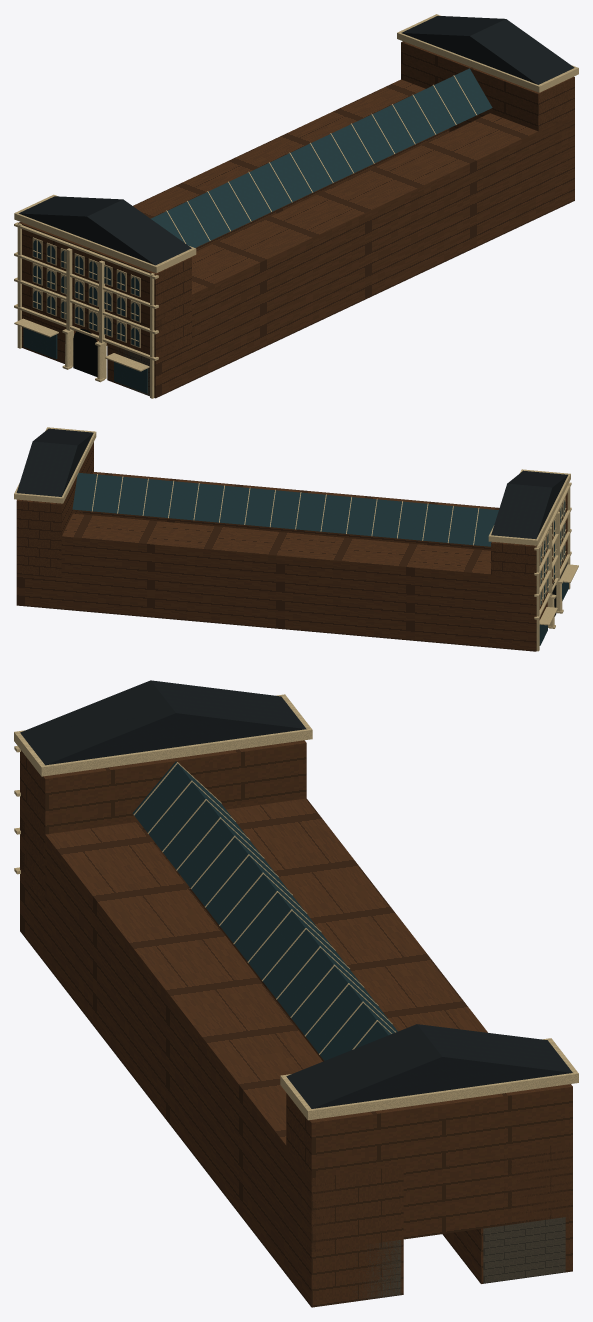
3 views of the same model, one above another, from view 1: azimuth 30°, elevation 25°; view 2: azimuth 150°, elevation 25°; view 3: azimuth 270°, elevation 25° (orthographic). The views are drawn at different scales.
Parts seen in each view (by area): view 1: passage-0, passage-1, passage-2, passage-4, passage-5; view 2: passage-0, passage-1, passage-4, passage-2; view 3: passage-0, passage-4, passage-1, passage-2, passage-3.
Part boxes in pixels (box(x1,y1,x2,y2)): passage-0: box(18, 41, 574, 398); passage-1: box(23, 68, 492, 393); passage-2: box(14, 14, 578, 398); passage-4: box(18, 16, 574, 265); passage-5: box(73, 329, 97, 377); passage-0: box(16, 442, 567, 651); passage-1: box(72, 473, 568, 645); passage-4: box(16, 428, 567, 539); passage-2: box(14, 427, 578, 651); passage-0: box(20, 740, 572, 1307); passage-4: box(20, 680, 572, 1108); passage-1: box(132, 761, 397, 1060); passage-2: box(14, 694, 578, 1120); passage-3: box(347, 1217, 565, 1300).
Size of the model in its own units: 97.98 by 25.2 by 55.45.
Materials: 6 (6 with a texture image).
